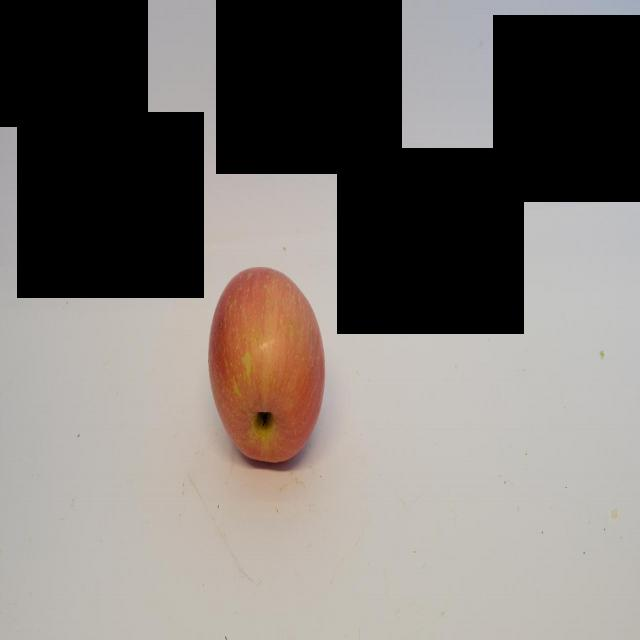apple: (210, 265, 327, 473)
